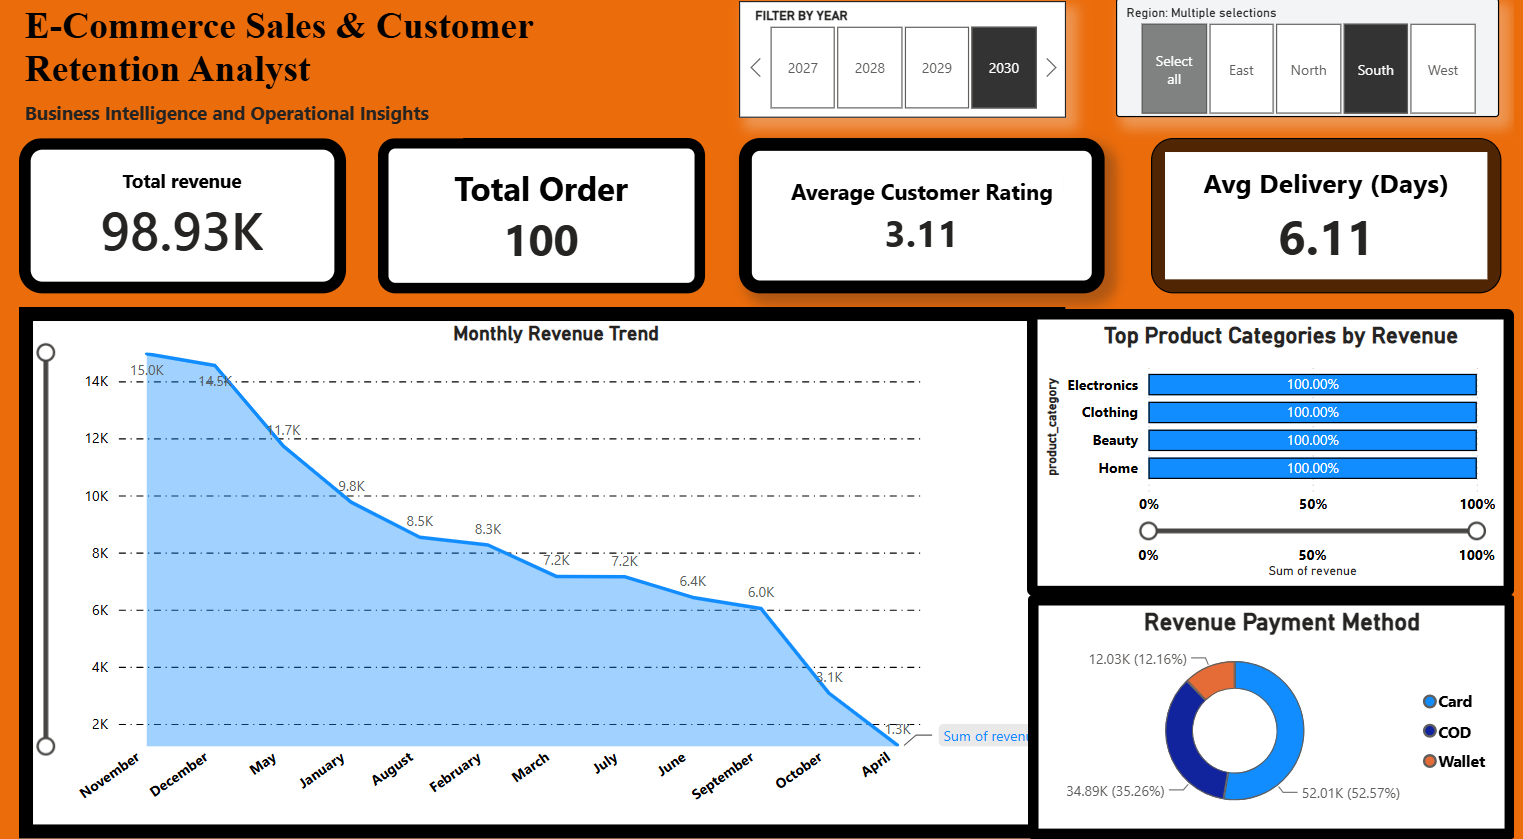

The dashboard page shown, as its layout file describes it:
{"tool":"powerbi","page":{"name":"Page 1","canvas":[1280,720],"ordinal":0},"visuals":[{"type":"cardVisual","fields":{"Data":["Sum(cleaned_ecommerce_sales.revenue)"]},"box":[0,120,279.5,133.2],"z":0},{"type":"cardVisual","fields":{"Data":["Count(cleaned_ecommerce_sales.order_id)"]},"box":[307.3,120,279.5,133.2],"z":1000},{"type":"cardVisual","fields":{"Data":["Avg(cleaned_ecommerce_sales.customer_rating)"]},"box":[616.1,120,313.2,133.2],"z":2000},{"type":"cardVisual","fields":{"Data":["Avg(cleaned_ecommerce_sales.delivery_days)"]},"box":[968.8,120,300,133.2],"z":3000},{"type":"areaChart","title":"Monthly Revenue Trend","fields":{"Category":["cleaned_ecommerce_sales.Month_Name"],"Y":["Sum(cleaned_ecommerce_sales.revenue)"]},"box":[0,264.9,895.6,455.1],"z":4000},{"type":"hundredPercentStackedBarChart","title":"Top Product Categories by Revenue","fields":{"Category":["cleaned_ecommerce_sales.product_category"],"Y":["Sum(cleaned_ecommerce_sales.revenue)"]},"box":[862.9,266.3,417.1,245.9],"z":5000},{"type":"donutChart","title":"Revenue Payment Method","fields":{"Category":["cleaned_ecommerce_sales.payment_method"],"Y":["Sum(cleaned_ecommerce_sales.revenue)"]},"box":[863.4,510.7,417.1,209.3],"z":6000},{"type":"slicer","fields":{"Values":["cleaned_ecommerce_sales.Year"]},"box":[616.1,2.9,279.5,99.5],"z":7000},{"type":"slicer","fields":{"Values":["cleaned_ecommerce_sales.region"]},"box":[939.5,0,327.8,102.4],"z":8000},{"type":"textbox","box":[0,0,545.9,102.4],"z":9000},{"type":"textbox","box":[0,82,380.5,38],"z":10000}]}

Visuals, with their boxes in screenshot pixels (x1, y1, x2, y2), scaled from the page's 1280x720 canvas onto the 1523x839 screenshot:
cardVisual - Sum(cleaned_ecommerce_sales.revenue): <box>0,140,333,295</box>
cardVisual - Count(cleaned_ecommerce_sales.order_id): <box>366,140,698,295</box>
cardVisual - Avg(cleaned_ecommerce_sales.customer_rating): <box>733,140,1106,295</box>
cardVisual - Avg(cleaned_ecommerce_sales.delivery_days): <box>1153,140,1510,295</box>
"Monthly Revenue Trend" areaChart: <box>0,309,1066,838</box>
"Top Product Categories by Revenue" hundredPercentStackedBarChart: <box>1027,310,1522,597</box>
"Revenue Payment Method" donutChart: <box>1027,595,1522,838</box>
slicer - cleaned_ecommerce_sales.Year: <box>733,3,1066,119</box>
slicer - cleaned_ecommerce_sales.region: <box>1118,0,1508,119</box>
textbox: <box>0,0,650,119</box>
textbox: <box>0,96,453,140</box>
